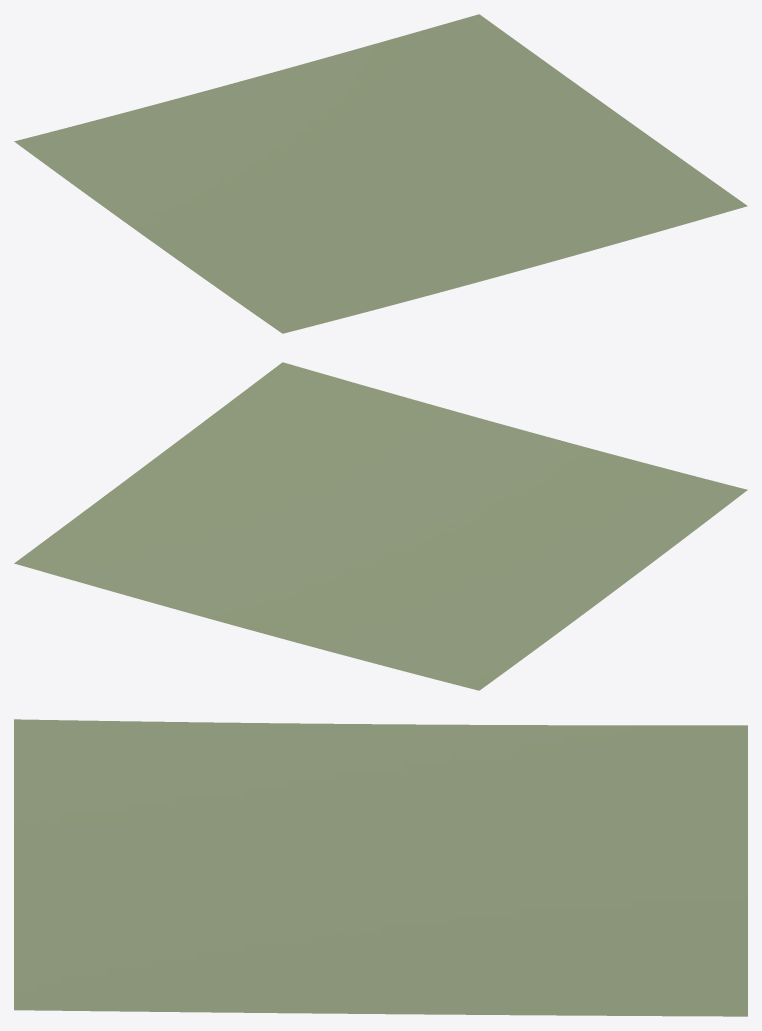
The model's file is gardens-7-5.glb.
3 views of the same model, one above another, from view 1: azimuth 30°, elevation 25°; view 2: azimuth 150°, elevation 25°; view 3: azimuth 270°, elevation 25° (orthographic). The views are drawn at different scales.
Parts seen in each view (by area): view 1: gardens-7-5; view 2: gardens-7-5; view 3: gardens-7-5.
Boxes of the visible parts, x1,y1,x2,y2 form: gardens-7-5: [14, 14, 747, 333]; gardens-7-5: [14, 362, 747, 690]; gardens-7-5: [14, 719, 747, 1016].
Size of the model in its own units: 256 by 9.73 by 256.
